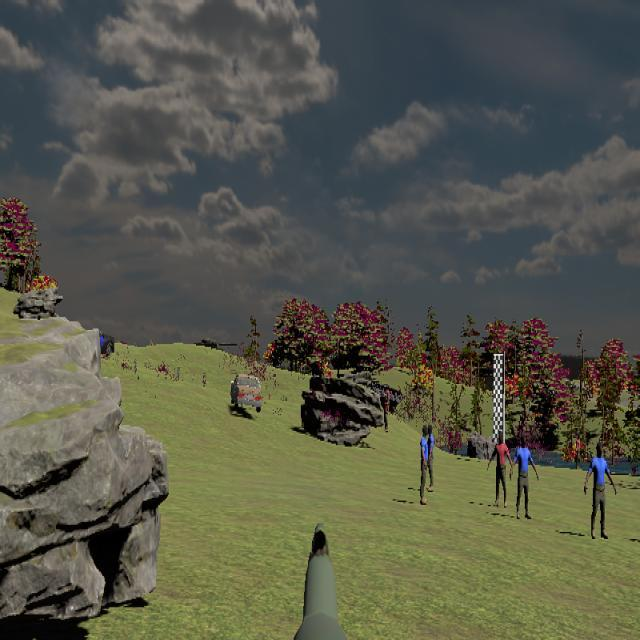Human: (584, 441, 616, 540), (510, 433, 539, 519), (487, 433, 513, 507), (423, 424, 434, 494), (419, 424, 429, 496)
car: (230, 374, 264, 413)
